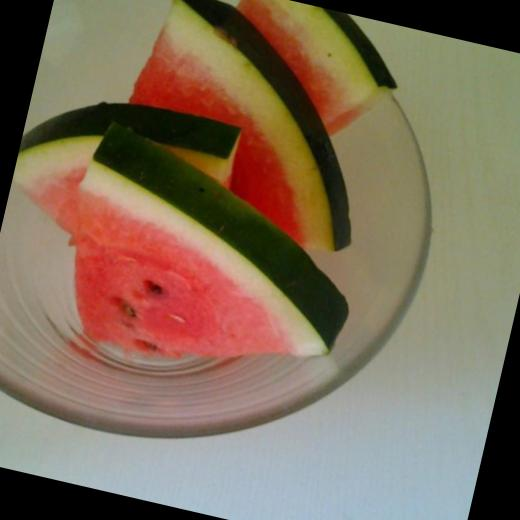Cherry: (56, 122, 382, 396), (106, 0, 401, 259), (3, 82, 240, 267), (215, 0, 404, 146)
